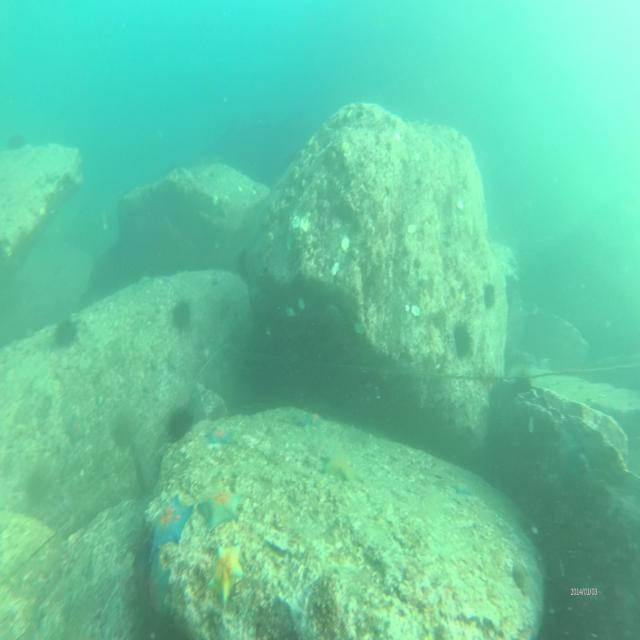echinus: (167, 406, 194, 442), (452, 319, 475, 361), (54, 316, 76, 350), (170, 299, 190, 333), (512, 370, 532, 398), (482, 280, 498, 310)
starfish: (148, 497, 196, 559), (208, 544, 247, 604), (202, 484, 244, 535), (207, 420, 237, 454)
